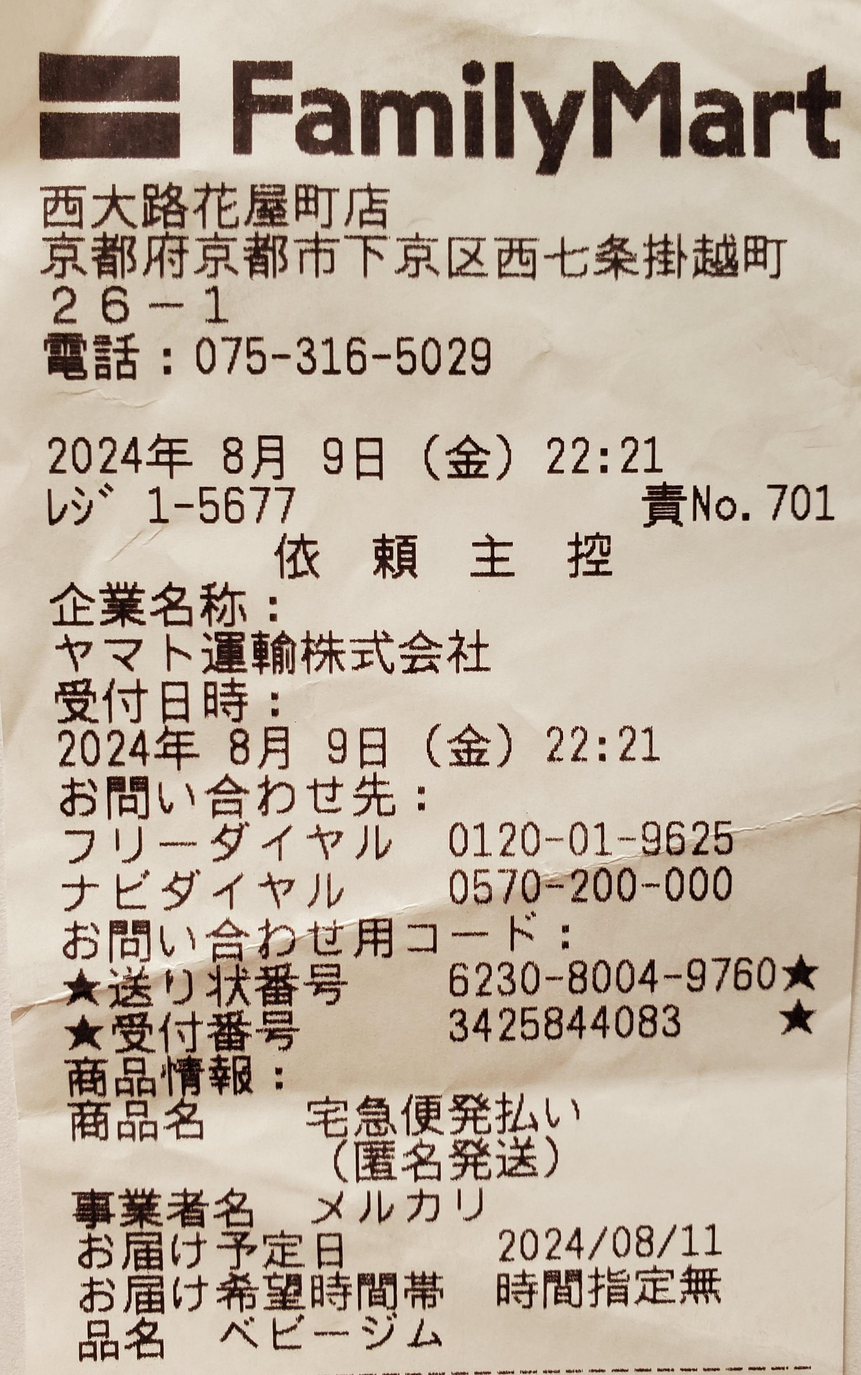TEL: (190, 327, 498, 380)
date: (47, 429, 397, 479)
